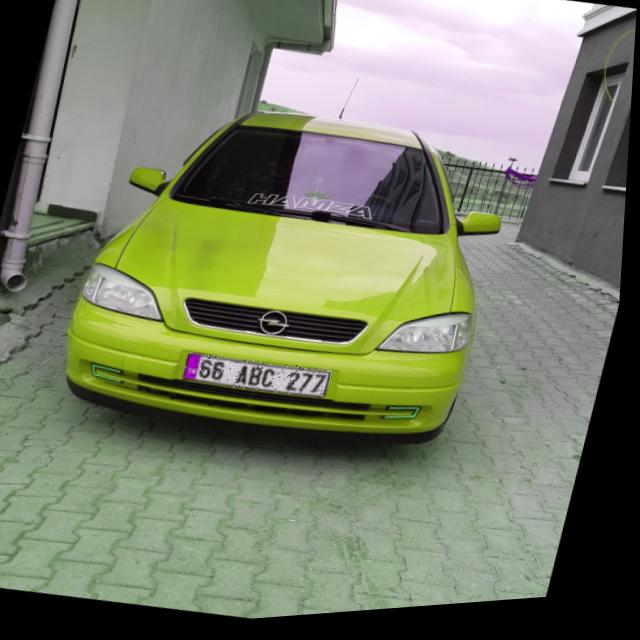license_plate: (185, 347, 338, 413)
